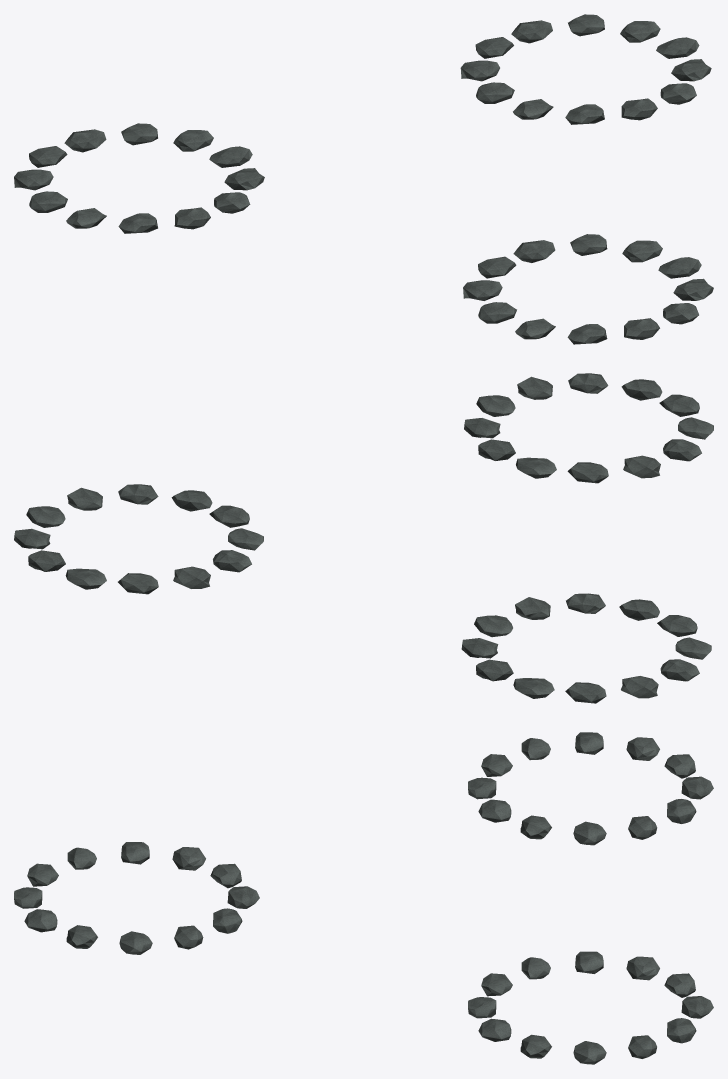
The model's file is rocks.tide_pool_shelf.lod1.glb.
3 views of the same model, one above another, from view 1: azimuth 30°, elevation 25°; view 2: azimuth 150°, elevation 25°; view 3: azimuth 270°, elevation 25° (orthographic).
Parts seen in each view (by area): view 1: PoolRim.015, PoolRim.027, PoolRim.003, PoolRim.025, PoolRim.005, PoolRim.029, PoolRim.017, PoolRim, PoolRim.012, PoolRim.013, PoolRim.024, PoolRim.001 (+24 smaller); view 2: PoolRim.005, PoolRim.029, PoolRim.017, PoolRim.003, PoolRim.012, PoolRim.015, PoolRim.028, PoolRim, PoolRim.024, PoolRim.027, PoolRim.004, PoolRim.006 (+24 smaller); view 3: PoolRim.017, PoolRim.005, PoolRim.029, PoolRim.034, PoolRim.010, PoolRim.012, PoolRim.022, PoolRim, PoolRim.024, PoolRim.014, PoolRim.026, PoolRim.002 (+23 smaller).
Boxes of the visible parts, x1=… form: PoolRim.015: x1=511, y1=20, x2=552, y2=43; PoolRim.027: x1=513, y1=240, x2=555, y2=262; PoolRim.003: x1=64, y1=129, x2=106, y2=152; PoolRim.025: x1=622, y1=240, x2=662, y2=262; PoolRim.005: x1=14, y1=169, x2=53, y2=190; PoolRim.029: x1=463, y1=280, x2=502, y2=300; PoolRim.017: x1=460, y1=60, x2=499, y2=81; PoolRim: x1=209, y1=146, x2=252, y2=167; PoolRim.012: x1=656, y1=37, x2=699, y2=58; PoolRim.013: x1=620, y1=21, x2=660, y2=42; PoolRim.024: x1=658, y1=257, x2=701, y2=278; PoolRim.001: x1=173, y1=130, x2=213, y2=151; PoolRim.005: x1=621, y1=676, x2=658, y2=698; PoolRim.029: x1=623, y1=455, x2=660, y2=478; PoolRim.017: x1=173, y1=566, x2=210, y2=588; PoolRim.003: x1=513, y1=678, x2=554, y2=698; PoolRim.012: x1=26, y1=506, x2=65, y2=527; PoolRim.015: x1=65, y1=568, x2=106, y2=589; PoolRim.028: x1=567, y1=462, x2=608, y2=483; PoolRim: x1=474, y1=615, x2=512, y2=637; PoolRim.024: x1=476, y1=395, x2=515, y2=416; PoolRim.027: x1=516, y1=457, x2=556, y2=478; PoolRim.004: x1=565, y1=682, x2=606, y2=703; PoolRim.006: x1=660, y1=659, x2=699, y2=681; PoolRim.017: x1=626, y1=956, x2=659, y2=980; PoolRim.005: x1=626, y1=737, x2=659, y2=760; PoolRim.029: x1=172, y1=847, x2=205, y2=870; PoolRim.034: x1=24, y1=909, x2=57, y2=932; PoolRim.010: x1=478, y1=799, x2=511, y2=822; PoolRim.012: x1=573, y1=1041, x2=606, y2=1064; PoolRim.022: x1=478, y1=1018, x2=511, y2=1041; PoolRim: x1=573, y1=821, x2=606, y2=845; PoolRim.024: x1=119, y1=931, x2=152, y2=954; PoolRim.014: x1=667, y1=1018, x2=696, y2=1043; PoolRim.026: x1=213, y1=908, x2=242, y2=933; PoolRim.002: x1=667, y1=799, x2=696, y2=823.
Size of the model in its own units: 23.93 by 0.612 by 21.59.
1 material, 1 textured.
